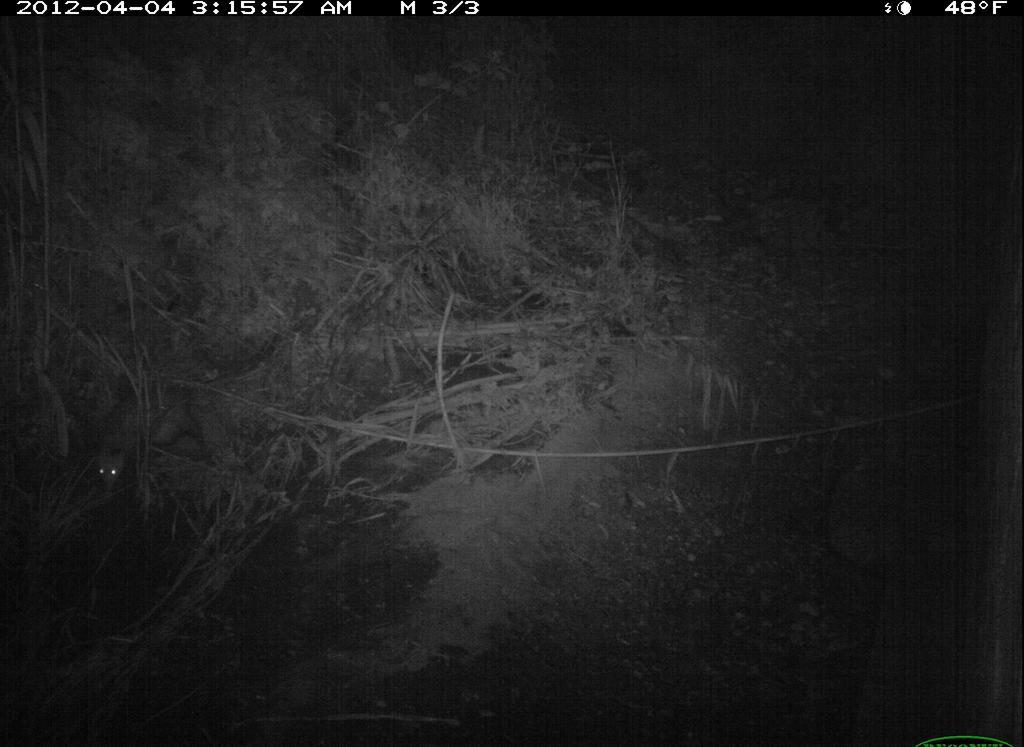opossum: (91, 374, 190, 495)
